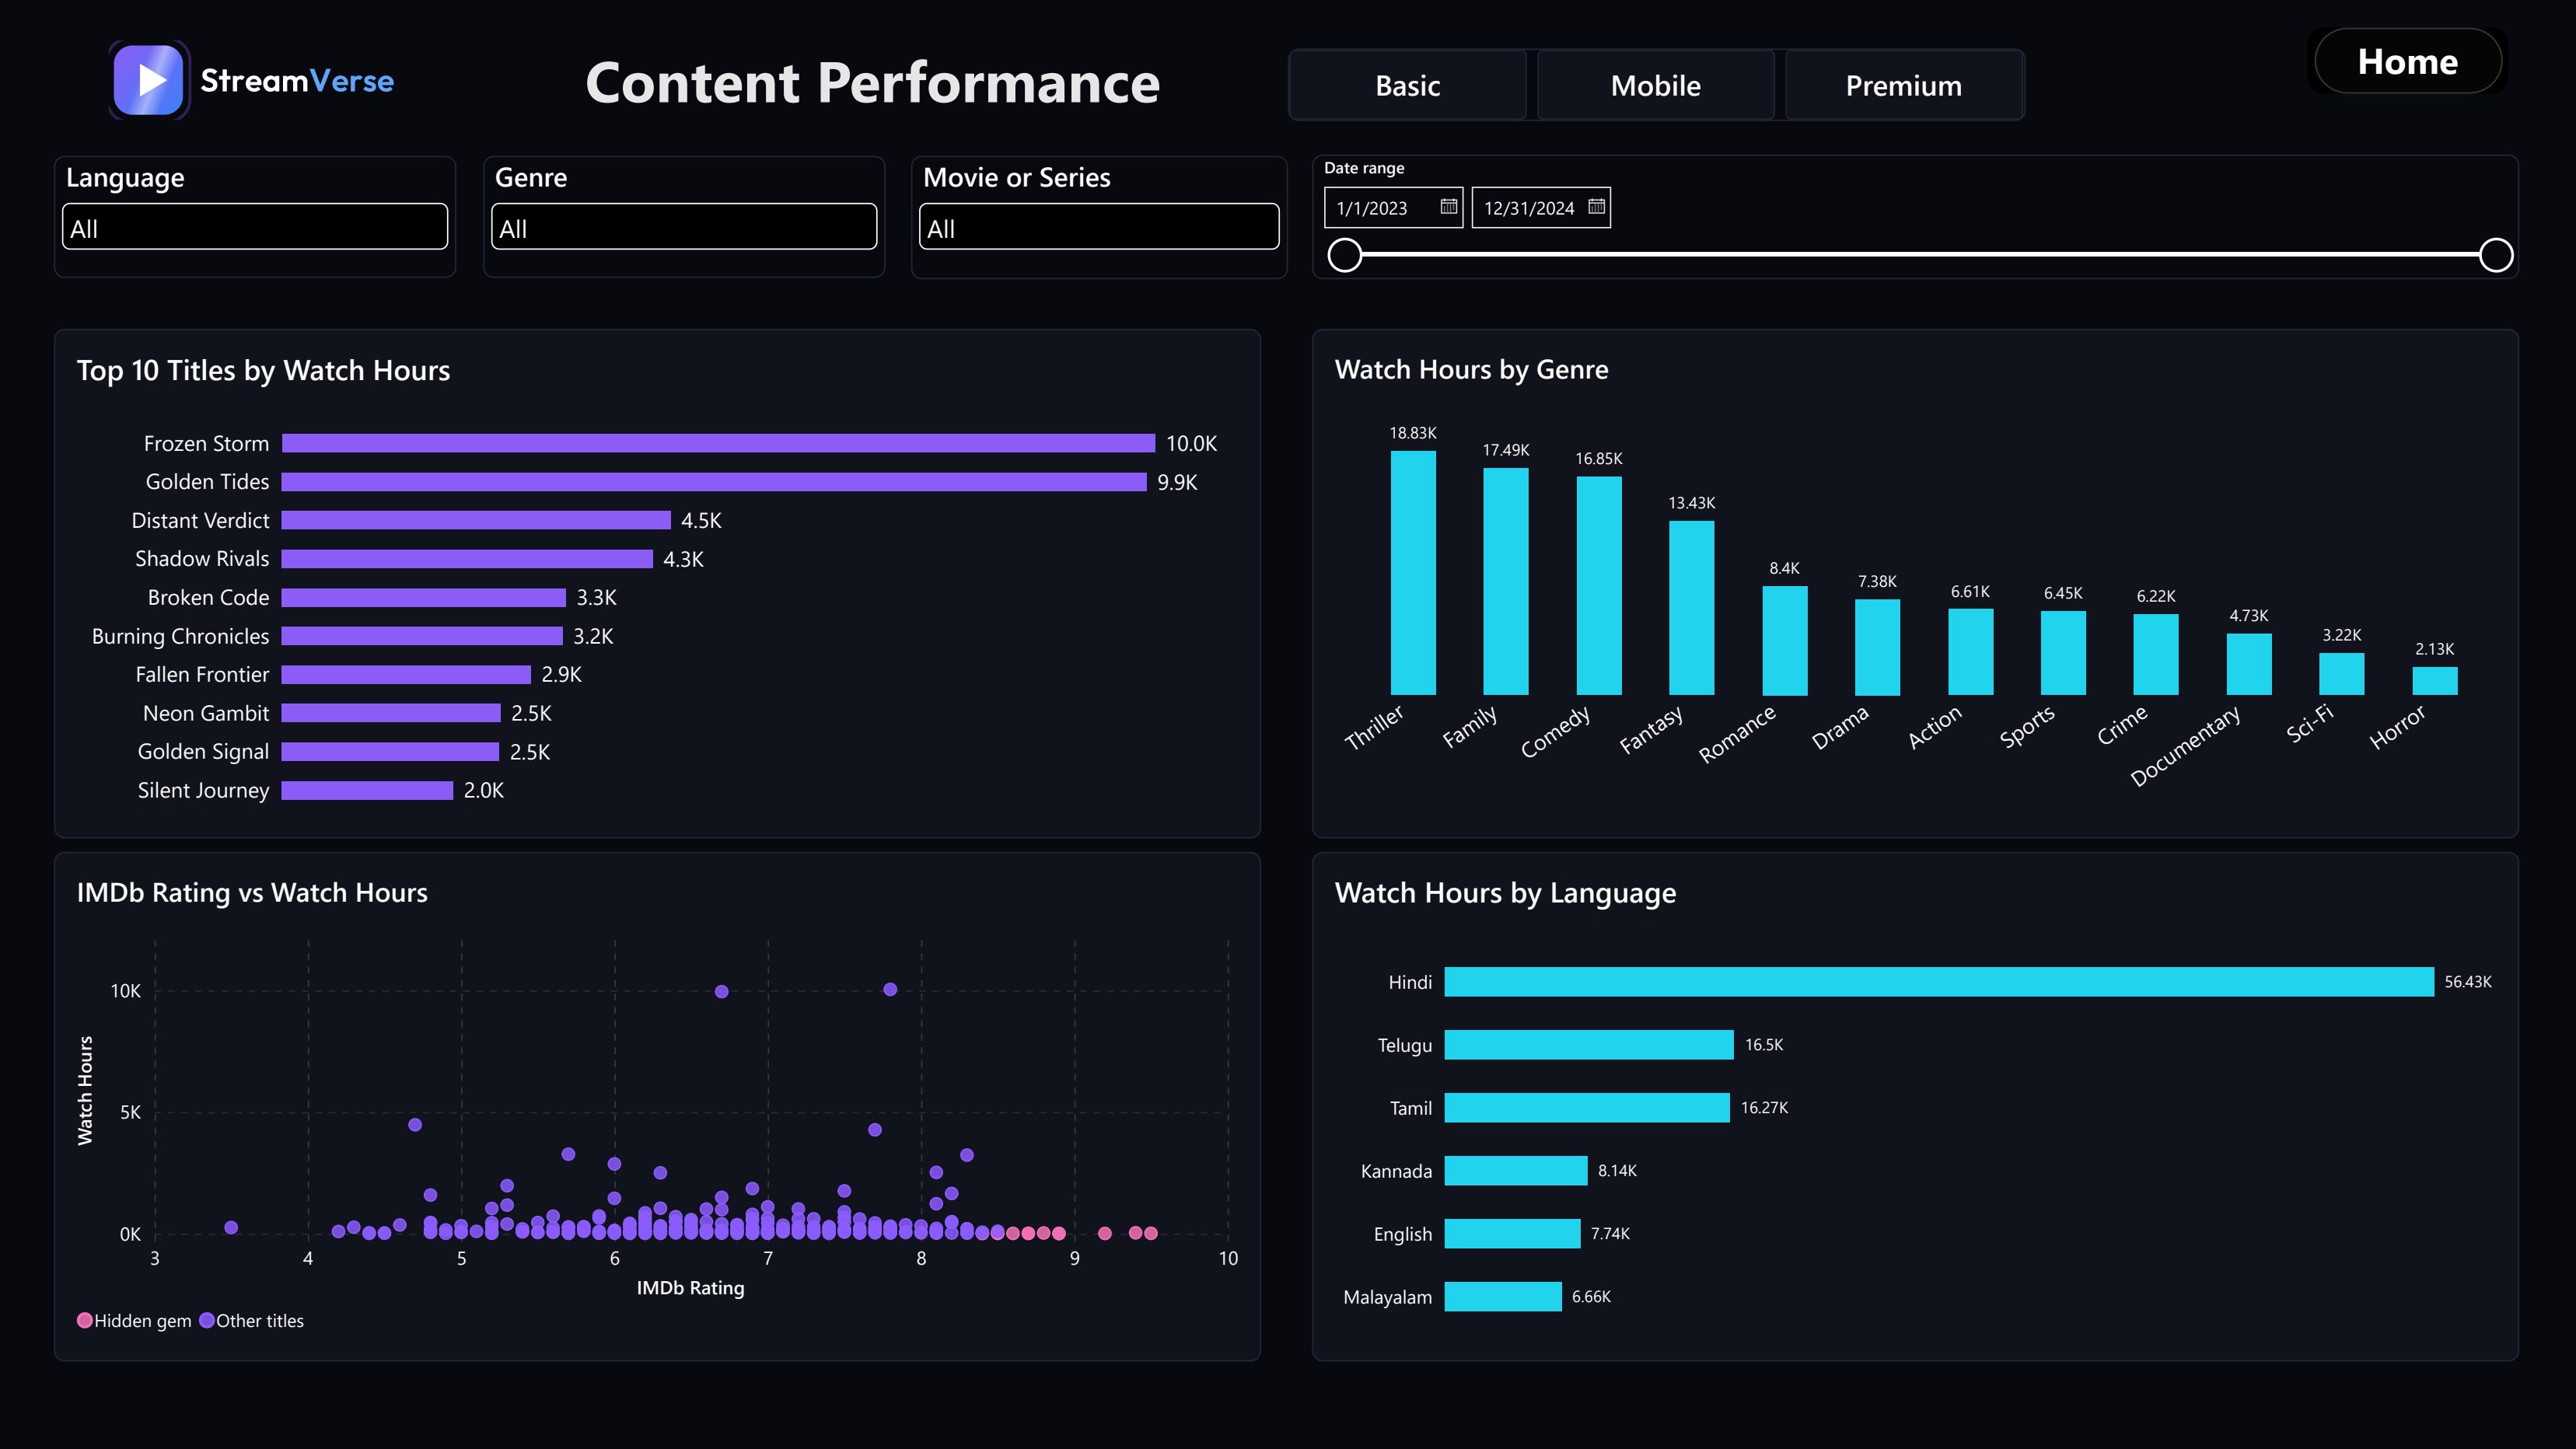

The dashboard page shown, as its layout file describes it:
{"tool":"powerbi","page":{"name":"Content Performance","canvas":[1920,1080],"ordinal":2},"visuals":[{"type":"image","box":[40,30,300,59],"z":0},{"type":"textbox","box":[435.7,30,446.7,60],"z":2000},{"type":"advancedSlicerVisual","fields":{"Values":["Plan.plan_name"]},"box":[960,36,550,54],"z":3000},{"type":"slicer","fields":{"Values":["Content.genre_name"]},"box":[360,115.7,300,91.4],"z":4000},{"type":"slicer","fields":{"Values":["Content.type"]},"box":[678.8,116.2,281.2,91.2],"z":5000},{"type":"clusteredBarChart","title":"Top 10 Titles by Watch Hours","fields":{"Category":["Content.title"],"Y":["Date.Total Watch Hours"]},"box":[40,245,900,380],"z":6000},{"type":"clusteredColumnChart","title":"Watch Hours by Genre","fields":{"Category":["Content.genre_name"],"Y":["Date.Total Watch Hours"]},"box":[978.3,245,900,380],"z":7000},{"type":"scatterChart","title":"IMDb Rating vs Watch Hours","fields":{"Category":["Content.title"],"Series":["Content.Gem Label"],"X":["Avg(Content.imdb_rating)"],"Y":["Date.Total Watch Hours"]},"box":[40,635,900,380],"z":8000},{"type":"clusteredBarChart","title":"Watch Hours by Language","fields":{"Category":["Content.language"],"Y":["Date.Total Watch Hours"]},"box":[978,635,900,380],"z":9000},{"type":"slicer","fields":{"Values":["Content.language"]},"box":[40,115.7,300,91.7],"z":10000},{"type":"actionButton","box":[1720,20,150,50],"z":11000},{"type":"slicer","fields":{"Values":["Date.full_date"]},"box":[978.3,115,900,93.3],"z":12000}]}

Visuals, with their boxes in screenshot pixels (x1, y1, x2, y2), scaled from the page's 1920x1080 canvas onto the 2576x1449 screenshot:
image: bbox(54, 40, 456, 120)
textbox: bbox(585, 40, 1184, 120)
advancedSlicerVisual - Plan.plan_name: bbox(1288, 48, 2026, 120)
slicer - Content.genre_name: bbox(483, 155, 886, 278)
slicer - Content.type: bbox(911, 156, 1288, 278)
"Top 10 Titles by Watch Hours" clusteredBarChart: bbox(54, 329, 1261, 839)
"Watch Hours by Genre" clusteredColumnChart: bbox(1312, 329, 2520, 839)
"IMDb Rating vs Watch Hours" scatterChart: bbox(54, 852, 1261, 1362)
"Watch Hours by Language" clusteredBarChart: bbox(1312, 852, 2520, 1362)
slicer - Content.language: bbox(54, 155, 456, 278)
actionButton: bbox(2308, 27, 2509, 94)
slicer - Date.full_date: bbox(1312, 154, 2520, 280)
